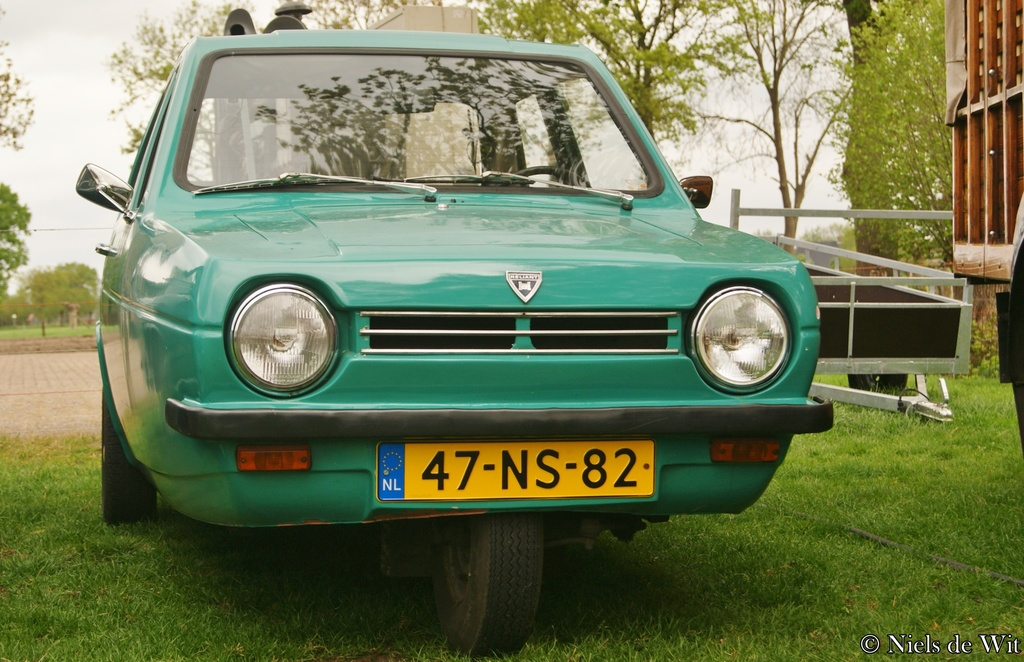Car: (76, 7, 833, 660)
